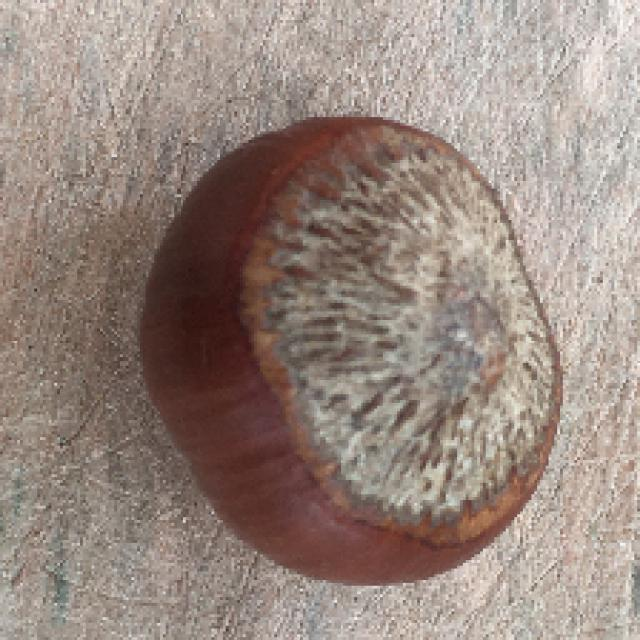DamagedHazelnut: (137, 114, 569, 592)
